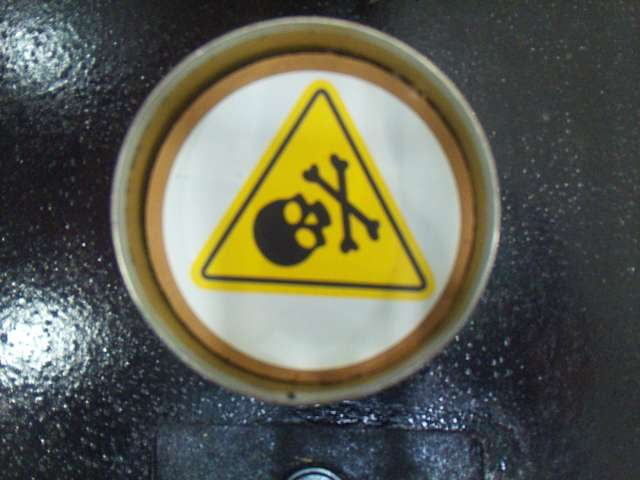toxic_fluid: (181, 71, 446, 310)
